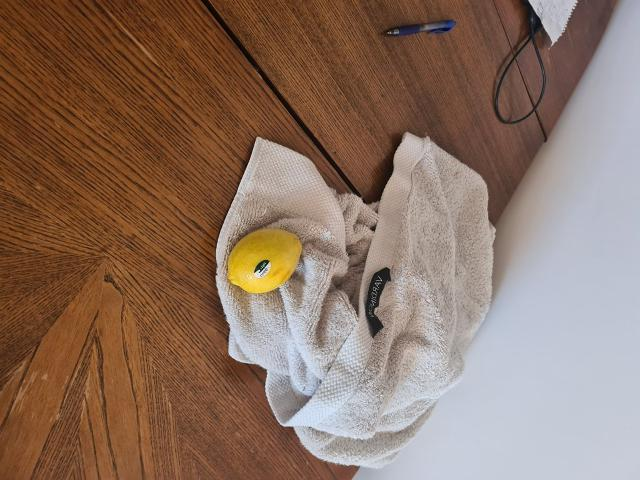lemon: (223, 228, 300, 294)
